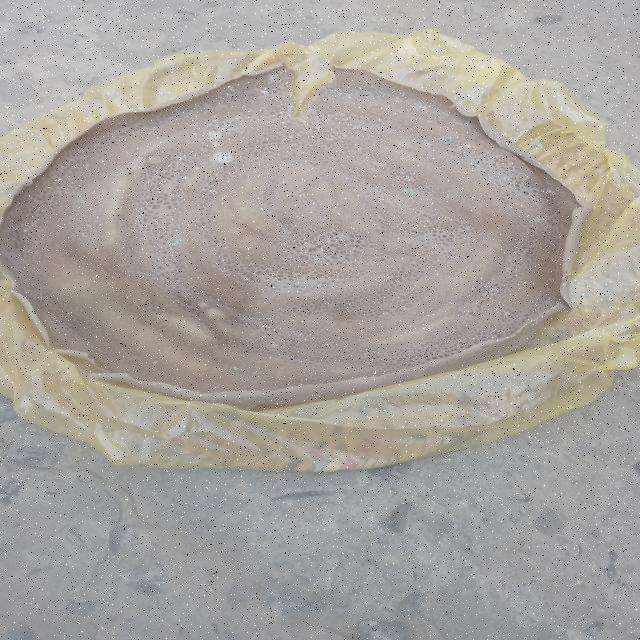injera_mold: (196, 115, 243, 149), (197, 184, 223, 202), (11, 220, 40, 236), (406, 96, 434, 112), (262, 68, 286, 86), (316, 125, 338, 142), (210, 150, 234, 164), (225, 83, 242, 98), (348, 122, 371, 133), (169, 236, 185, 248), (173, 152, 189, 163), (458, 142, 477, 150), (260, 87, 270, 96), (79, 231, 90, 239), (532, 217, 544, 224), (231, 364, 241, 372), (502, 310, 512, 318), (443, 136, 453, 144), (403, 188, 414, 195), (375, 91, 385, 98), (75, 198, 86, 204), (150, 359, 158, 365), (420, 185, 428, 191), (392, 96, 400, 102), (396, 109, 404, 114), (450, 157, 457, 162), (426, 152, 434, 156), (442, 113, 450, 117), (193, 167, 200, 171), (182, 176, 189, 180), (463, 121, 470, 125), (425, 143, 434, 146), (445, 194, 451, 198), (366, 92, 370, 96)
